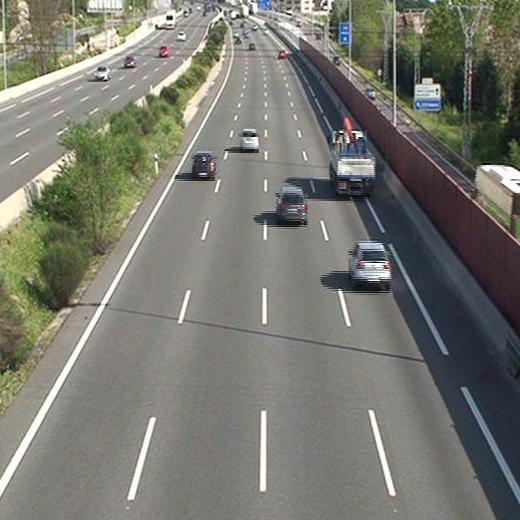car: (349, 243, 391, 285), (276, 187, 306, 220), (192, 153, 215, 177), (240, 130, 259, 150)
small-truck: (330, 131, 375, 195)
